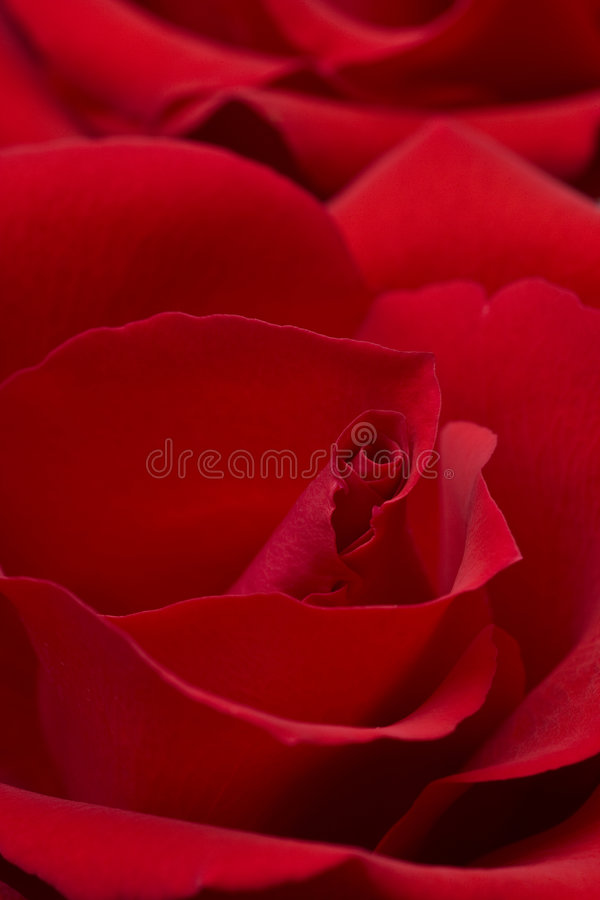RedRose: (6, 5, 600, 900)
